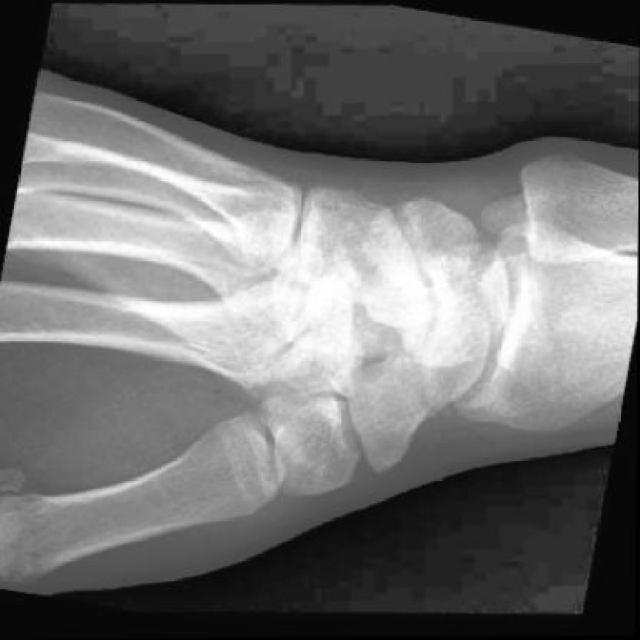Fracture: (371, 323, 461, 435)
